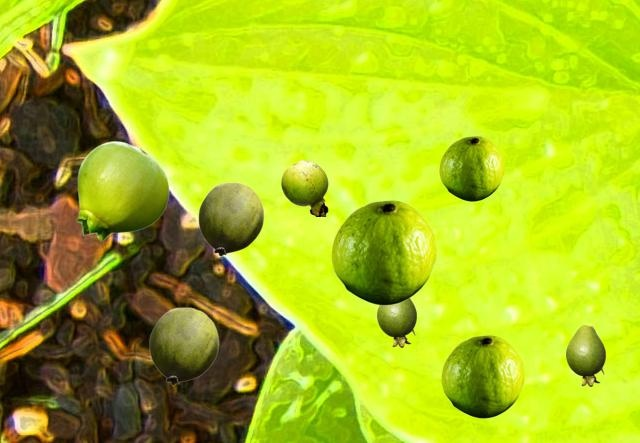guava: (331, 200, 435, 304), (76, 141, 168, 240), (441, 335, 523, 417), (149, 307, 218, 384), (198, 182, 263, 255), (439, 136, 503, 200), (281, 160, 327, 215), (566, 325, 604, 385), (377, 299, 415, 346)
